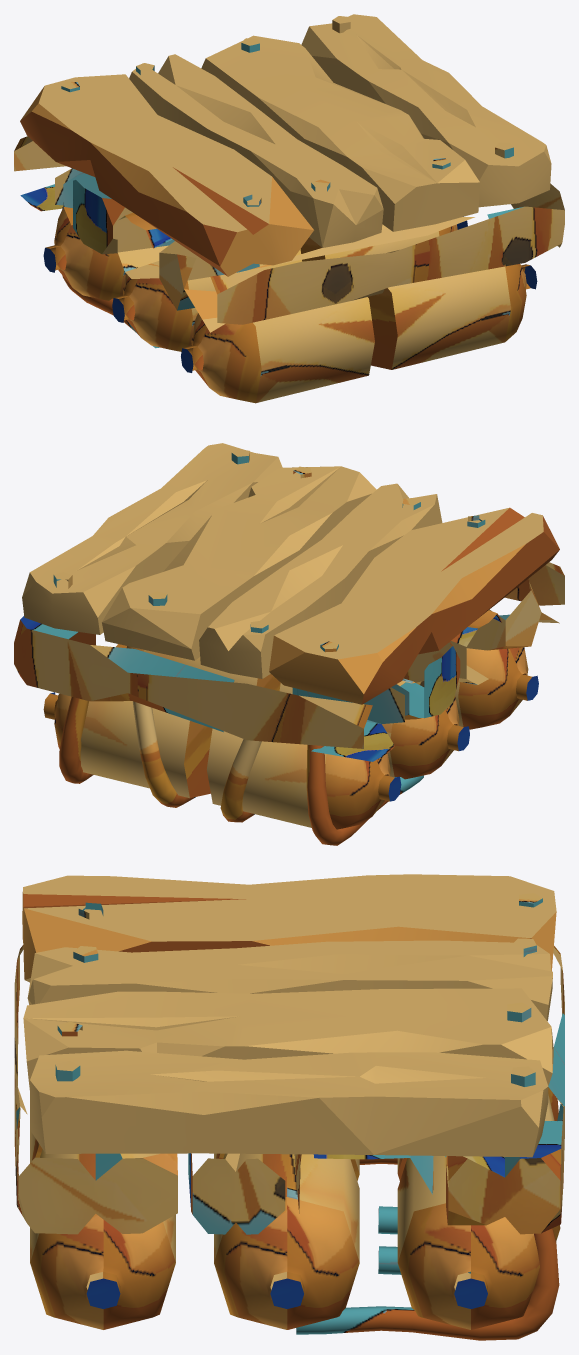
Rendered from Ra2sft.fbx.
3 views of the same model, one above another, from view 1: azimuth 30°, elevation 25°; view 2: azimuth 150°, elevation 25°; view 3: azimuth 270°, elevation 25° (orthographic). The views are drawn at different scales.
Parts seen in each view (by area): view 1: TopWood, Bottles, BottomWood, bolt; view 2: TopWood, BottomWood, Bottles, Rope, bolt; view 3: TopWood, Bottles, BottomWood, Rope, bolt.
Boxes of the visible parts, left/top/right/bottom form: TopWood: left=20, top=14, right=551, bottom=276; Bottles: left=43, top=208, right=537, bottom=403; BottomWood: left=14, top=136, right=564, bottom=332; bolt: left=61, top=16, right=513, bottom=206; TopWood: left=22, top=443, right=559, bottom=704; BottomWood: left=14, top=562, right=564, bottom=761; Bottles: left=43, top=644, right=538, bottom=829; Rope: left=59, top=697, right=423, bottom=845; bolt: left=53, top=449, right=485, bottom=652; TopWood: left=22, top=874, right=556, bottom=1157; Bottles: left=30, top=1130, right=539, bottom=1329; BottomWood: left=14, top=945, right=564, bottom=1234; Rope: left=296, top=1087, right=560, bottom=1340; bolt: left=55, top=893, right=542, bottom=1086.
Size of the model in its own units: 100 by 56.37 by 100.
1 material, 1 textured.
